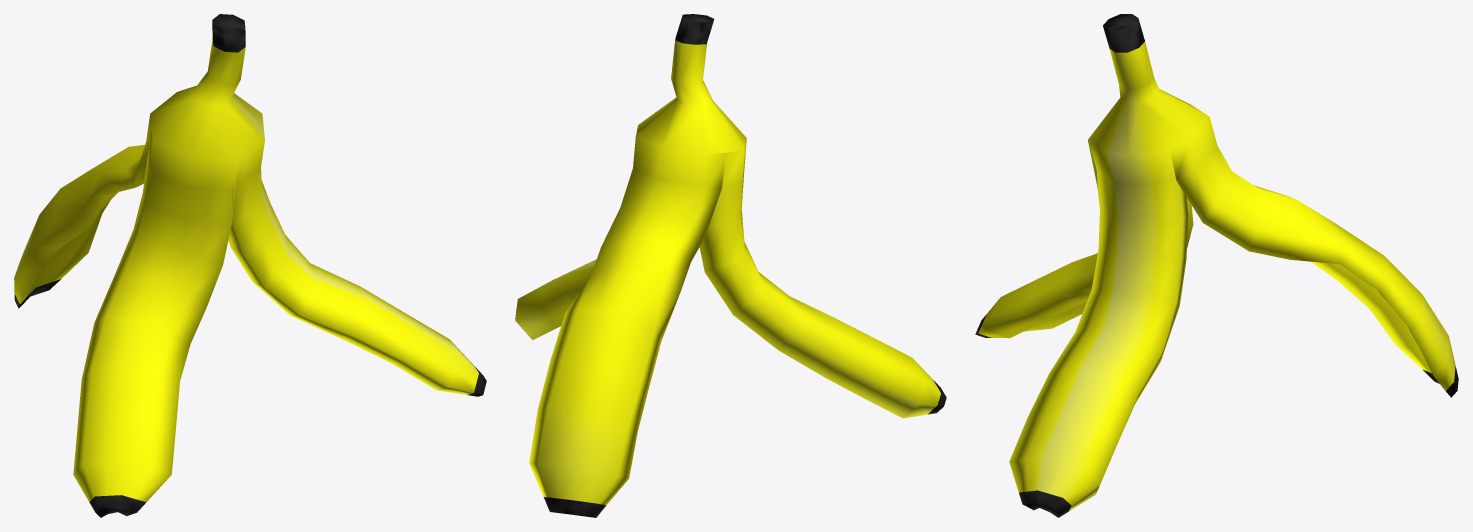
Rendered from partyhat.fbx.
The picture shows the model from 3 angles, left to right: view 1: azimuth 30°, elevation 25°; view 2: azimuth 150°, elevation 25°; view 3: azimuth 270°, elevation 25°; orthographic projection. The views are drawn at different scales.
Parts seen in each view (by area): view 1: bananahat; view 2: bananahat; view 3: bananahat.
Part boxes in pixels (x1,y1,x2,y2): bananahat: (14, 14, 486, 517); bananahat: (515, 14, 946, 517); bananahat: (975, 14, 1458, 517).
Bounding box in the file's own units: 36.44 × 34.31 × 36.97.
